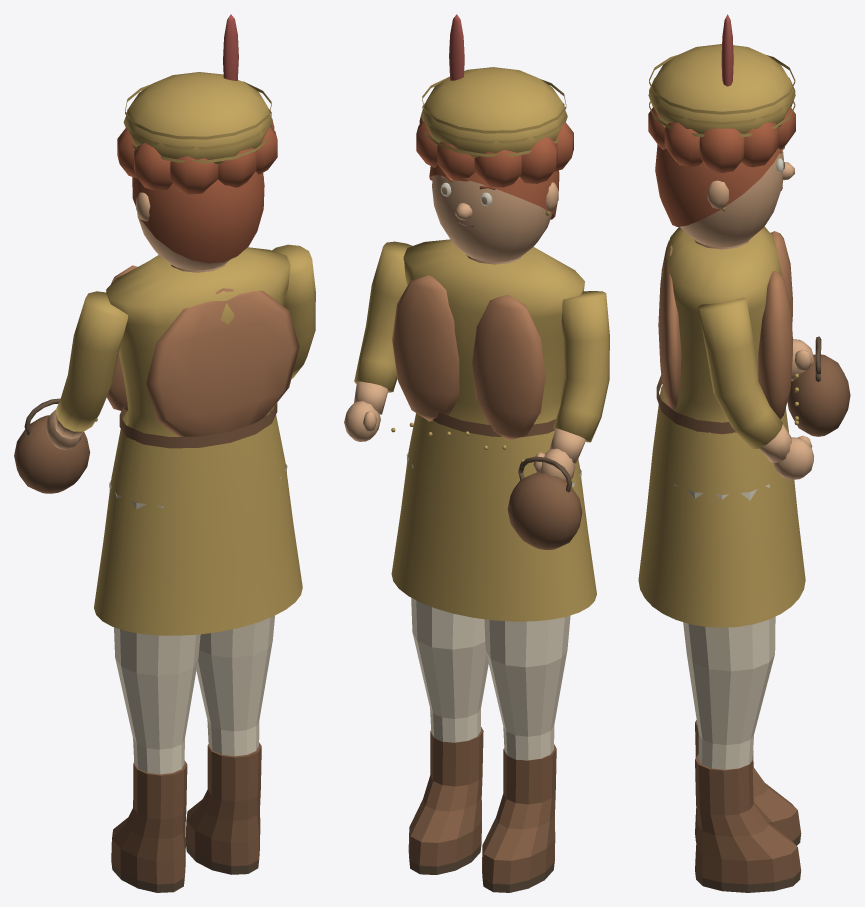
The model's file is SM_NPC_CHISPA.glb.
3 renders of one model, left to right at view 1: azimuth 30°, elevation 25°; view 2: azimuth 150°, elevation 25°; view 3: azimuth 270°, elevation 25°, orthographic. The views are drawn at different scales.
Visible parts, largest first — view 1: SM_NPC_CHISPA_BODY, SM_NPC_CHISPA_HAIR, SM_NPC_CHISPA_LEG_L, SM_NPC_CHISPA_LEG_R, SM_NPC_CHISPA_ARM_L, SM_NPC_CHISPA_ARM_R, SM_NPC_CHISPA_HEAD; view 2: SM_NPC_CHISPA_BODY, SM_NPC_CHISPA_LEG_L, SM_NPC_CHISPA_HAIR, SM_NPC_CHISPA_LEG_R, SM_NPC_CHISPA_ARM_L, SM_NPC_CHISPA_HEAD, SM_NPC_CHISPA_ARM_R; view 3: SM_NPC_CHISPA_BODY, SM_NPC_CHISPA_LEG_R, SM_NPC_CHISPA_HAIR, SM_NPC_CHISPA_ARM_R, SM_NPC_CHISPA_HEAD, SM_NPC_CHISPA_ARM_L, SM_NPC_CHISPA_LEG_L.
Boxes of the visible parts, left/top/right/bottom form: SM_NPC_CHISPA_BODY: left=94, top=247, right=302, bottom=635; SM_NPC_CHISPA_HAIR: left=117, top=14, right=277, bottom=263; SM_NPC_CHISPA_LEG_L: left=109, top=481, right=200, bottom=892; SM_NPC_CHISPA_LEG_R: left=185, top=464, right=287, bottom=874; SM_NPC_CHISPA_ARM_L: left=14, top=291, right=128, bottom=493; SM_NPC_CHISPA_ARM_R: left=272, top=244, right=315, bottom=378; SM_NPC_CHISPA_HEAD: left=136, top=177, right=263, bottom=270; SM_NPC_CHISPA_BODY: left=391, top=239, right=596, bottom=621; SM_NPC_CHISPA_LEG_L: left=482, top=469, right=581, bottom=892; SM_NPC_CHISPA_HAIR: left=416, top=14, right=573, bottom=219; SM_NPC_CHISPA_LEG_R: left=406, top=453, right=488, bottom=874; SM_NPC_CHISPA_ARM_L: left=507, top=291, right=609, bottom=549; SM_NPC_CHISPA_HEAD: left=432, top=175, right=558, bottom=262; SM_NPC_CHISPA_ARM_R: left=344, top=241, right=412, bottom=441; SM_NPC_CHISPA_BODY: left=638, top=226, right=805, bottom=627; SM_NPC_CHISPA_LEG_R: left=674, top=484, right=801, bottom=892; SM_NPC_CHISPA_HAIR: left=648, top=14, right=795, bottom=226; SM_NPC_CHISPA_ARM_R: left=697, top=297, right=813, bottom=479; SM_NPC_CHISPA_HEAD: left=680, top=149, right=794, bottom=247; SM_NPC_CHISPA_ARM_L: left=787, top=336, right=850, bottom=436; SM_NPC_CHISPA_LEG_L: left=695, top=720, right=801, bottom=845.
Size of the model in its own units: 0.6323 by 2.01 by 0.4477.
